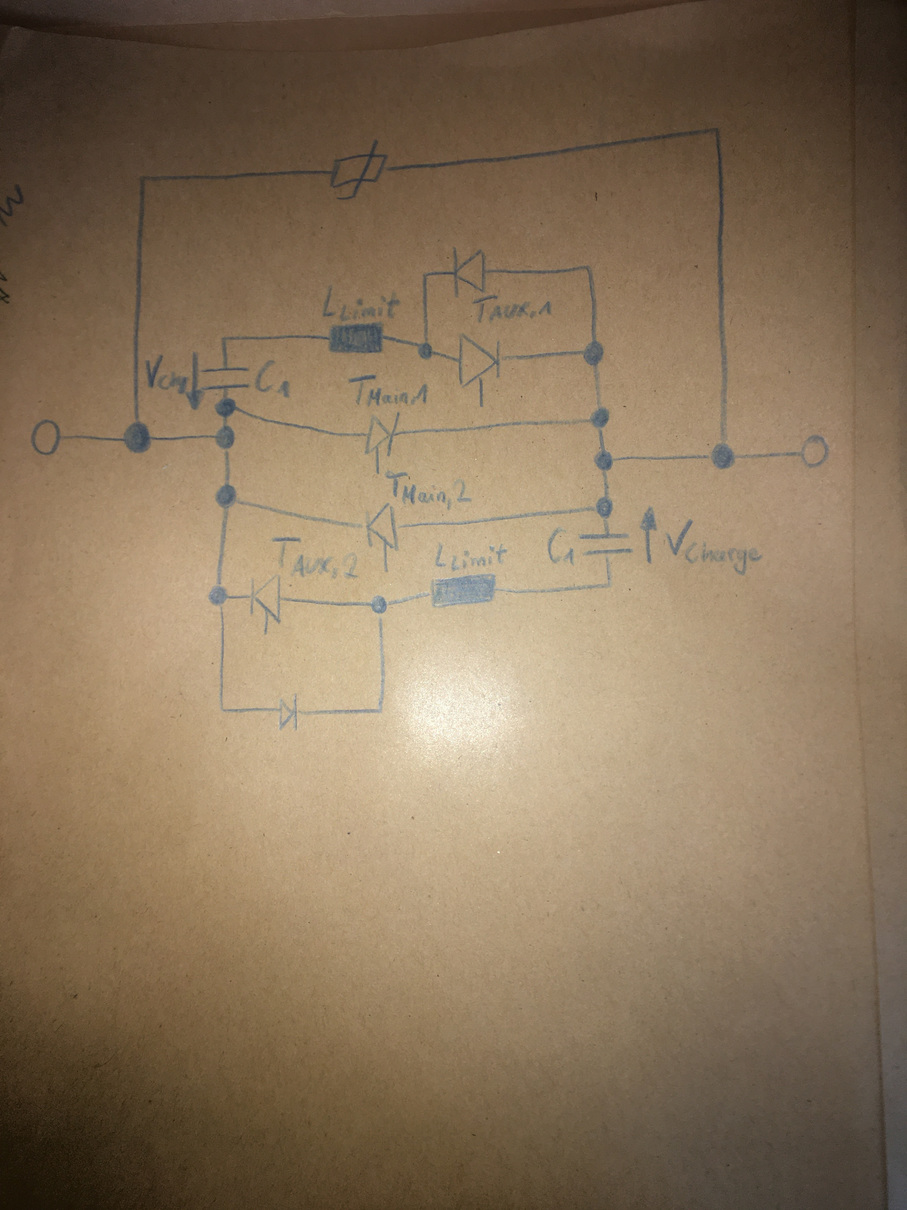capacitor.unpolarized: (576, 530, 635, 559), (199, 364, 252, 394)
diode: (450, 243, 488, 300), (277, 692, 301, 734)
inductor: (429, 572, 498, 610), (325, 320, 385, 356)
junction: (122, 418, 153, 455), (705, 438, 739, 471), (213, 481, 243, 510), (206, 581, 232, 610), (581, 339, 606, 367), (214, 423, 237, 453), (587, 405, 612, 430), (591, 495, 615, 520), (213, 396, 239, 419), (592, 447, 615, 473), (368, 593, 390, 620), (415, 341, 435, 361), (217, 703, 230, 717), (137, 172, 150, 186), (603, 577, 615, 591), (375, 704, 387, 717), (711, 124, 724, 136), (582, 261, 594, 273), (419, 270, 431, 281), (218, 333, 229, 344)
terminal: (29, 417, 65, 457), (798, 432, 830, 470)
text: (663, 517, 764, 577), (269, 534, 363, 583), (384, 468, 475, 512), (346, 369, 432, 410), (321, 283, 403, 325), (471, 292, 556, 326), (432, 540, 510, 573), (143, 353, 189, 396), (254, 357, 294, 401), (545, 525, 578, 570)
thyristor: (455, 330, 506, 397), (362, 501, 403, 563), (248, 572, 285, 634), (363, 410, 402, 468)
varistor: (328, 138, 392, 201)
